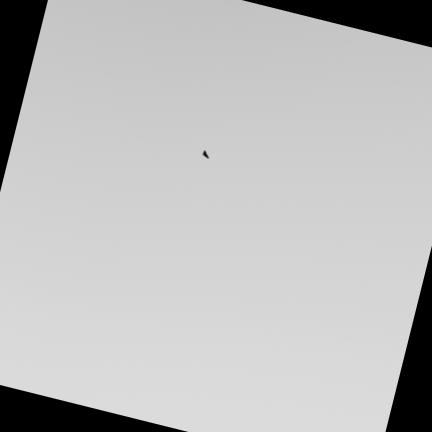Shahed: (202, 150, 208, 158)
